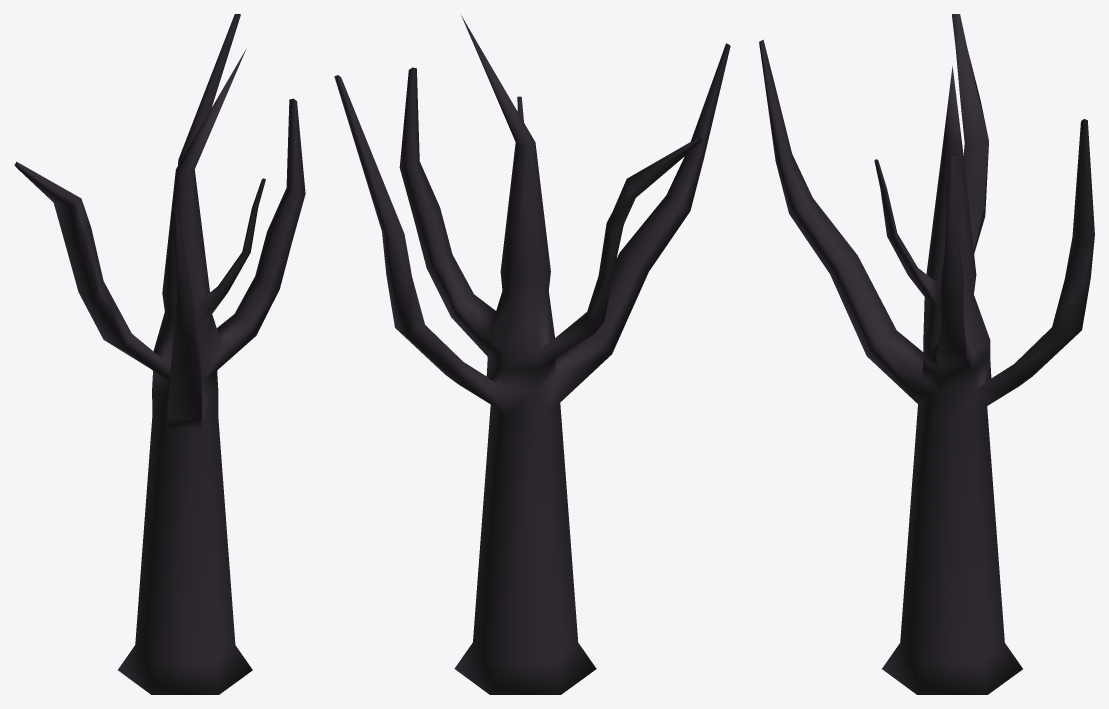
File: treedead.fbx
The picture shows the model from 3 angles, left to right: view 1: azimuth 30°, elevation 25°; view 2: azimuth 150°, elevation 25°; view 3: azimuth 270°, elevation 25°; orthographic projection. The views are drawn at different scales.
Parts seen in each view (by area): view 1: pCylinder1; view 2: pCylinder1; view 3: pCylinder1.
Boxes of the visible parts, left/top/right/bottom form: pCylinder1: left=14, top=14, right=305, bottom=694; pCylinder1: left=334, top=15, right=730, bottom=694; pCylinder1: left=759, top=14, right=1094, bottom=694.
Bounding box in the file's own units: 819 × 1655 × 793.
